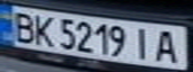1: (90, 20, 112, 56)
2: (72, 19, 93, 54)
5: (54, 16, 78, 52)
9: (106, 23, 130, 57)
A: (151, 27, 184, 64)
B: (6, 9, 39, 44)
I: (130, 25, 157, 61)
K: (30, 12, 57, 47)
